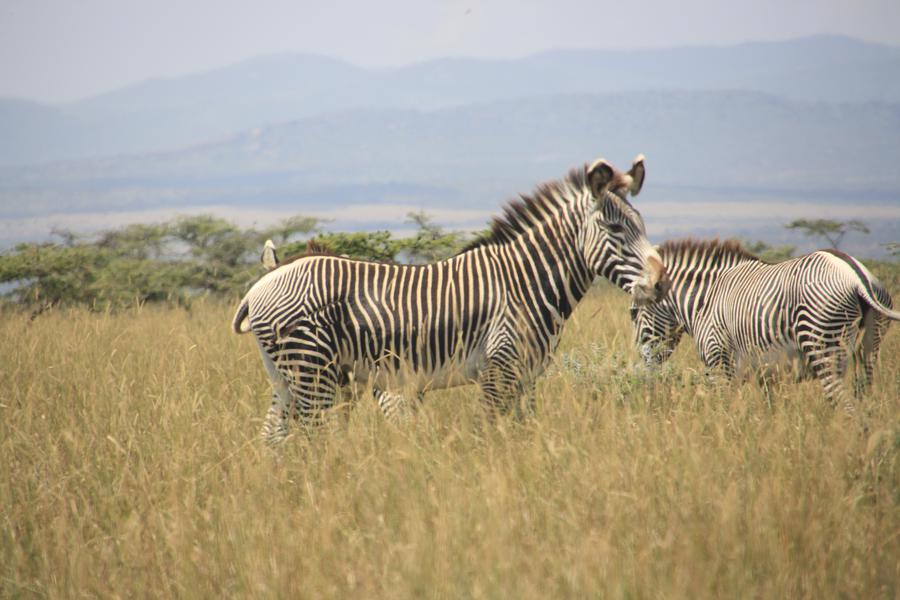zebra_grevys: (253, 250, 547, 366)
